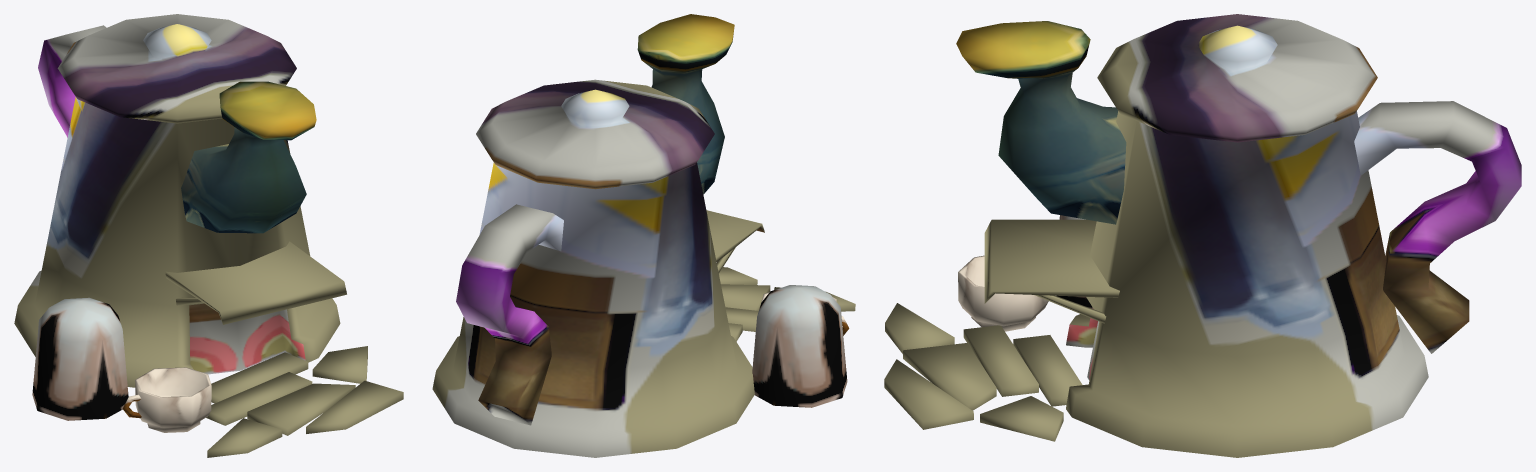
The picture shows the model from 3 angles, left to right: view 1: azimuth 30°, elevation 25°; view 2: azimuth 150°, elevation 25°; view 3: azimuth 270°, elevation 25°; orthographic projection. The views are drawn at different scales.
Visible parts, largest first — view 1: 830003_2; view 2: 830003_2; view 3: 830003_2.
Boxes of the visible parts, x1=… form: 830003_2: x1=14, y1=14, x2=403, y2=457; 830003_2: x1=432, y1=14, x2=855, y2=457; 830003_2: x1=884, y1=14, x2=1521, y2=457.
Size of the model in its own units: 447 by 383 by 628.
